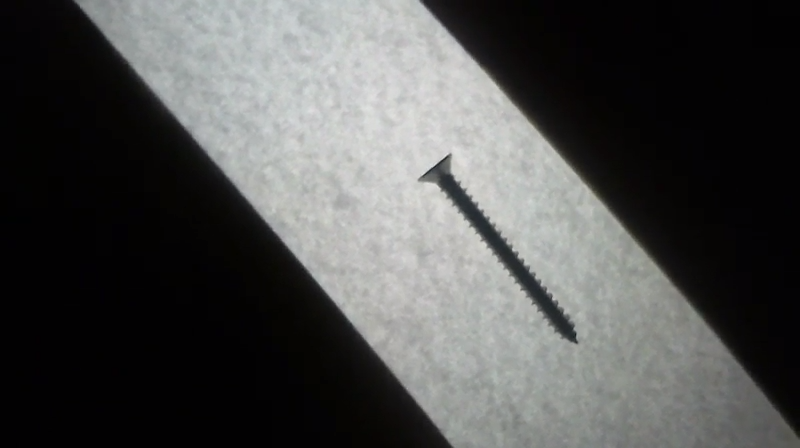S002: (412, 150, 584, 349)
